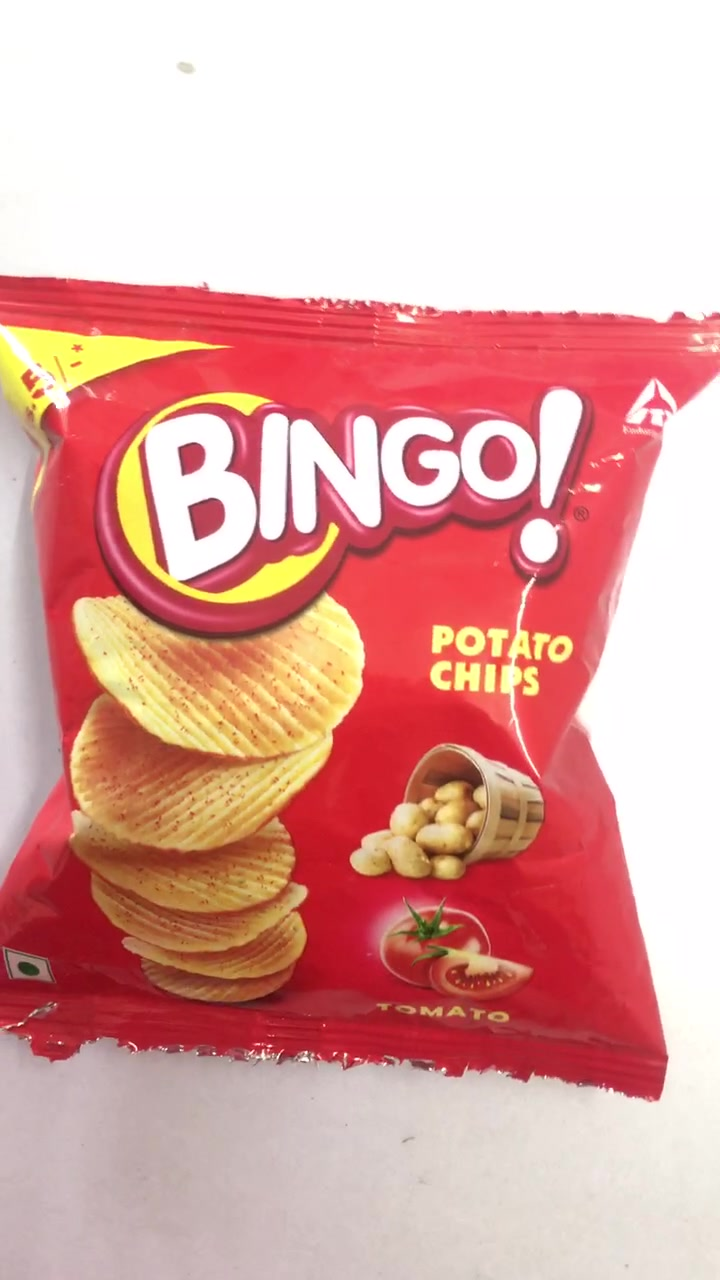Bingo: (1, 280, 719, 1102)
